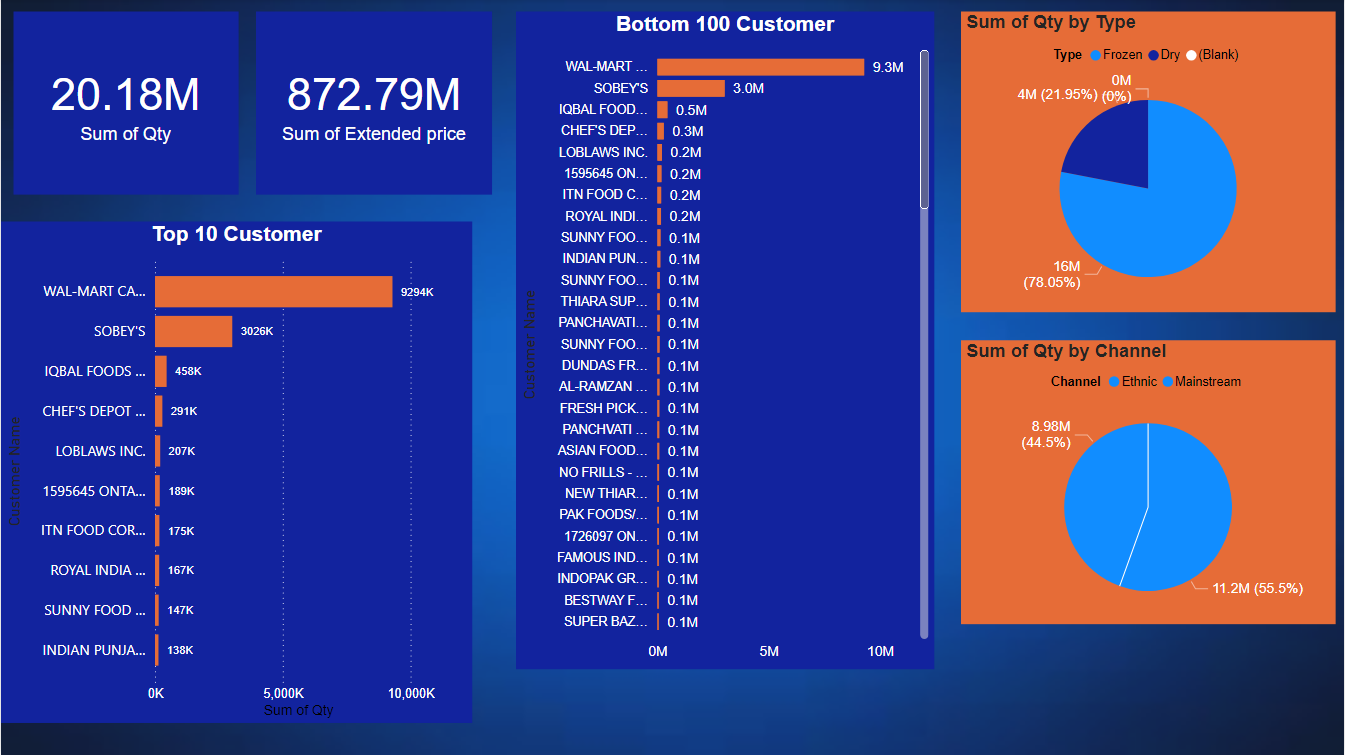

The page's visual inventory and layout, read from the dashboard file:
{"tool":"powerbi","page":{"name":"Summary","canvas":[1280,720],"ordinal":0},"visuals":[{"type":"card","fields":{"Values":["Sum(Total.Qty)"]},"box":[12,12.3,214.1,174.3],"z":0},{"type":"card","fields":{"Values":["Sum(Total.Extended price)"]},"box":[242.9,12.3,225,174.3],"z":1000},{"type":"pieChart","fields":{"Y":["Sum(Total.Qty)"],"Category":["Total.Type"]},"box":[913.9,12.3,356.8,286.8],"z":2000},{"type":"pieChart","fields":{"Category":["Total.Channel"],"Y":["Sum(Total.Qty)"]},"box":[913.9,325.2,356.8,270.3],"z":3000},{"type":"barChart","title":"Top 10 Customer ","fields":{"Category":["Total.Customer Name"],"Y":["Sum(Total.Qty)"]},"box":[0,211.3,448.7,477.5],"z":4000},{"type":"barChart","title":"Bottom 100 Customer ","fields":{"Category":["Total.Customer Name"],"Y":["Sum(Total.Qty)"]},"box":[491,12.1,398.1,626.1],"z":5000}]}

Visuals, with their boxes in screenshot pixels (x1, y1, x2, y2), scaled from the page's 1280x720 canvas onto the 1345x755 screenshot:
card - Sum(Total.Qty): 13,13,238,196
card - Sum(Total.Extended price): 255,13,492,196
pieChart - Sum(Total.Qty) x Total.Type: 960,13,1335,314
pieChart - Total.Channel x Sum(Total.Qty): 960,341,1335,624
"Top 10 Customer " barChart: 0,222,471,722
"Bottom 100 Customer " barChart: 516,13,934,669
